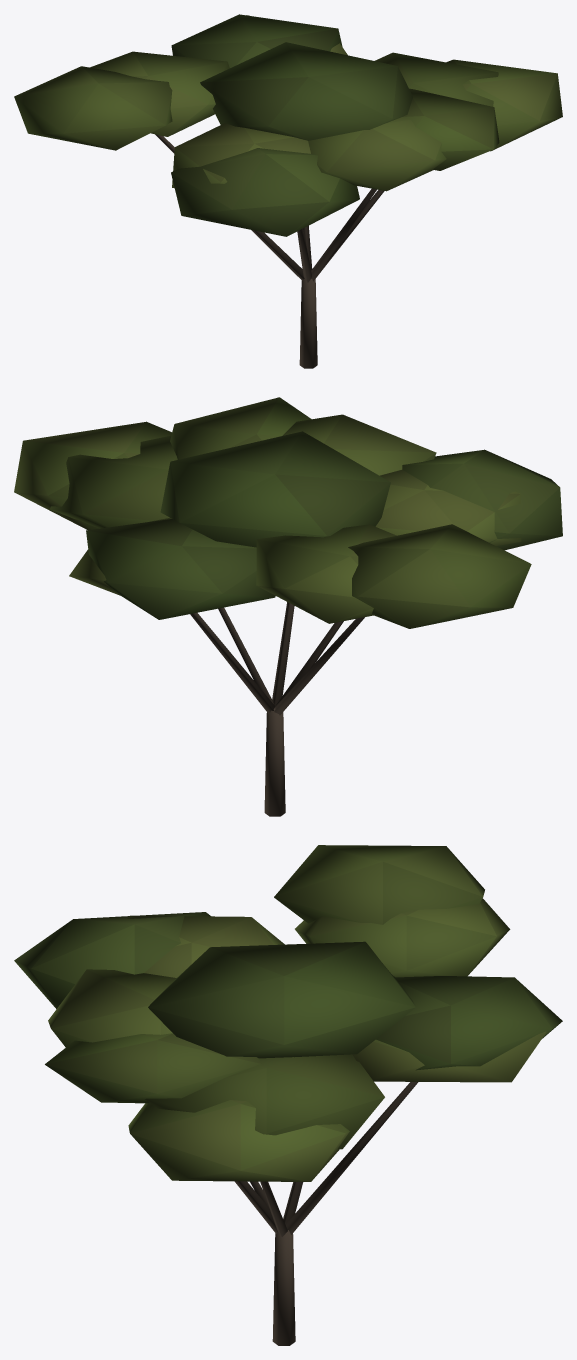
The model's file is env_umbrella_a.glb.
3 renders of one model, top to bottom at view 1: azimuth 30°, elevation 25°; view 2: azimuth 150°, elevation 25°; view 3: azimuth 270°, elevation 25°, orthographic. The views are drawn at different scales.
Parts seen in each view (by area): view 1: env_umbrella_a; view 2: env_umbrella_a; view 3: env_umbrella_a.
Part boxes in pixels (x1,y1,x2,y2): env_umbrella_a: [14, 14, 562, 368]; env_umbrella_a: [14, 397, 562, 816]; env_umbrella_a: [14, 845, 562, 1345].
Bounding box in the file's own units: 15.78 × 9.39 × 12.49.
